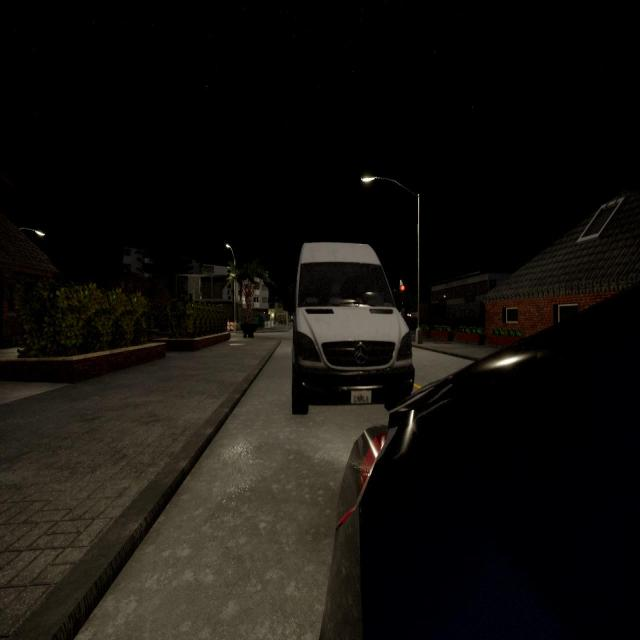Vehicle: (320, 283, 640, 640), (291, 242, 415, 416)
traffic_light: (400, 285, 405, 300)
